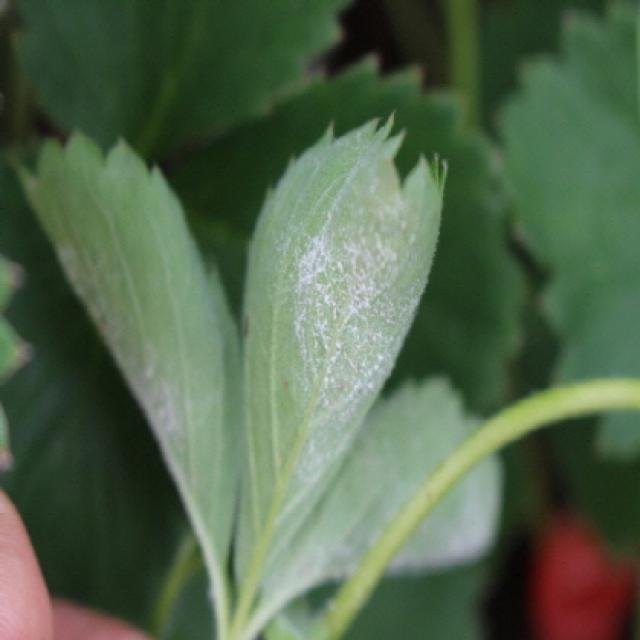powdery_mildew_leaf: (229, 106, 448, 609), (13, 126, 238, 600), (246, 374, 510, 638)
